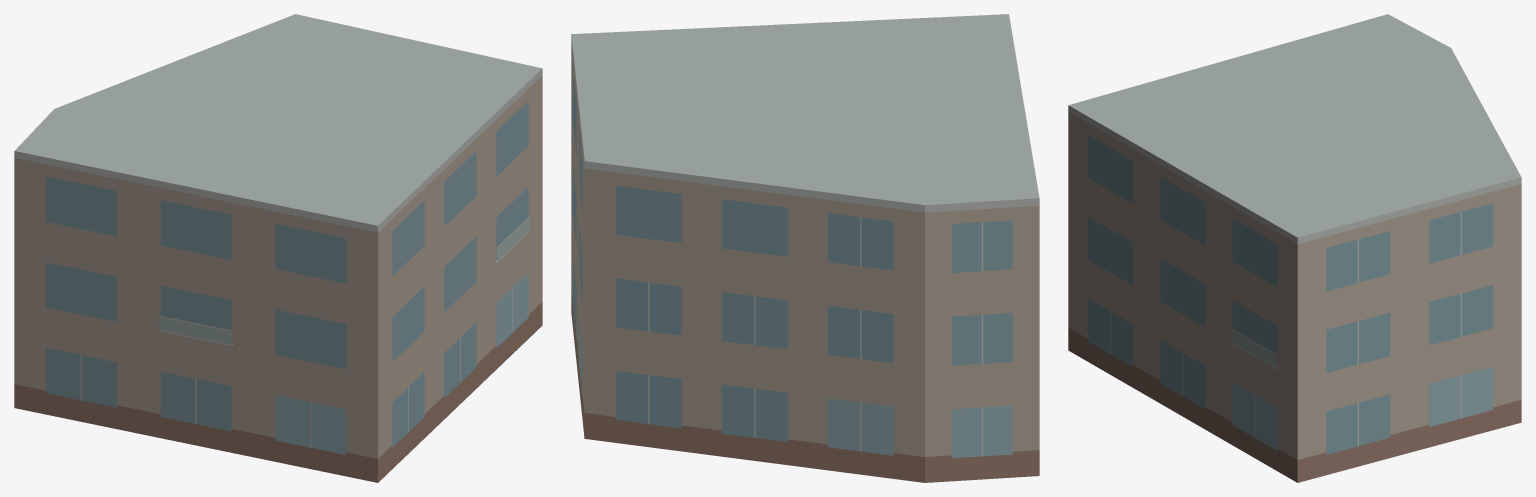
The model's file is survey-upis-32625347.glb.
3 views of the same model, side by side, from view 1: azimuth 30°, elevation 25°; view 2: azimuth 150°, elevation 25°; view 3: azimuth 270°, elevation 25° (orthographic). The views are drawn at different scales.
Parts seen in each view (by area): view 1: survey-upis-32625347.tmp; view 2: survey-upis-32625347.tmp; view 3: survey-upis-32625347.tmp.
Boxes of the visible parts, box(x1,y1,x2,y2) form: survey-upis-32625347.tmp: box(14, 14, 542, 482); survey-upis-32625347.tmp: box(571, 14, 1039, 482); survey-upis-32625347.tmp: box(1068, 14, 1521, 482).
Bounding box in the file's own units: 17.92 × 9.15 × 15.34.
